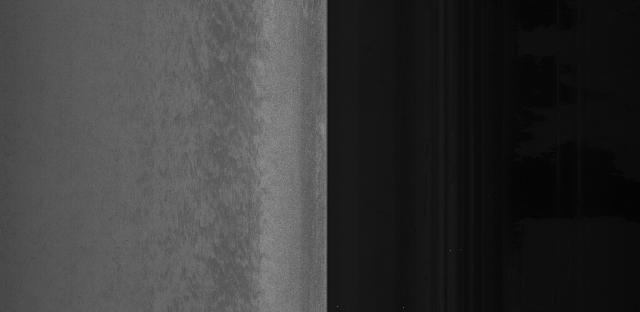silk_spot: (195, 30, 281, 230)
